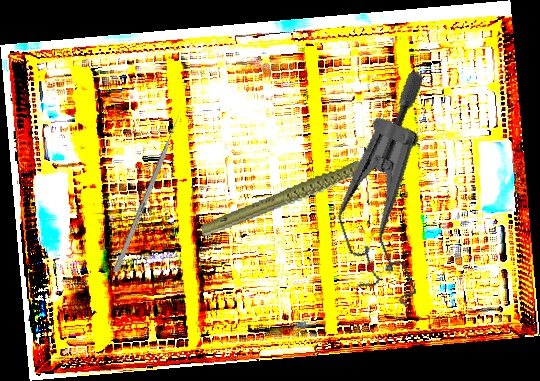Handpiece: (194, 153, 403, 239)
Pusher: (112, 108, 185, 274)
Speculum: (298, 68, 491, 322)
